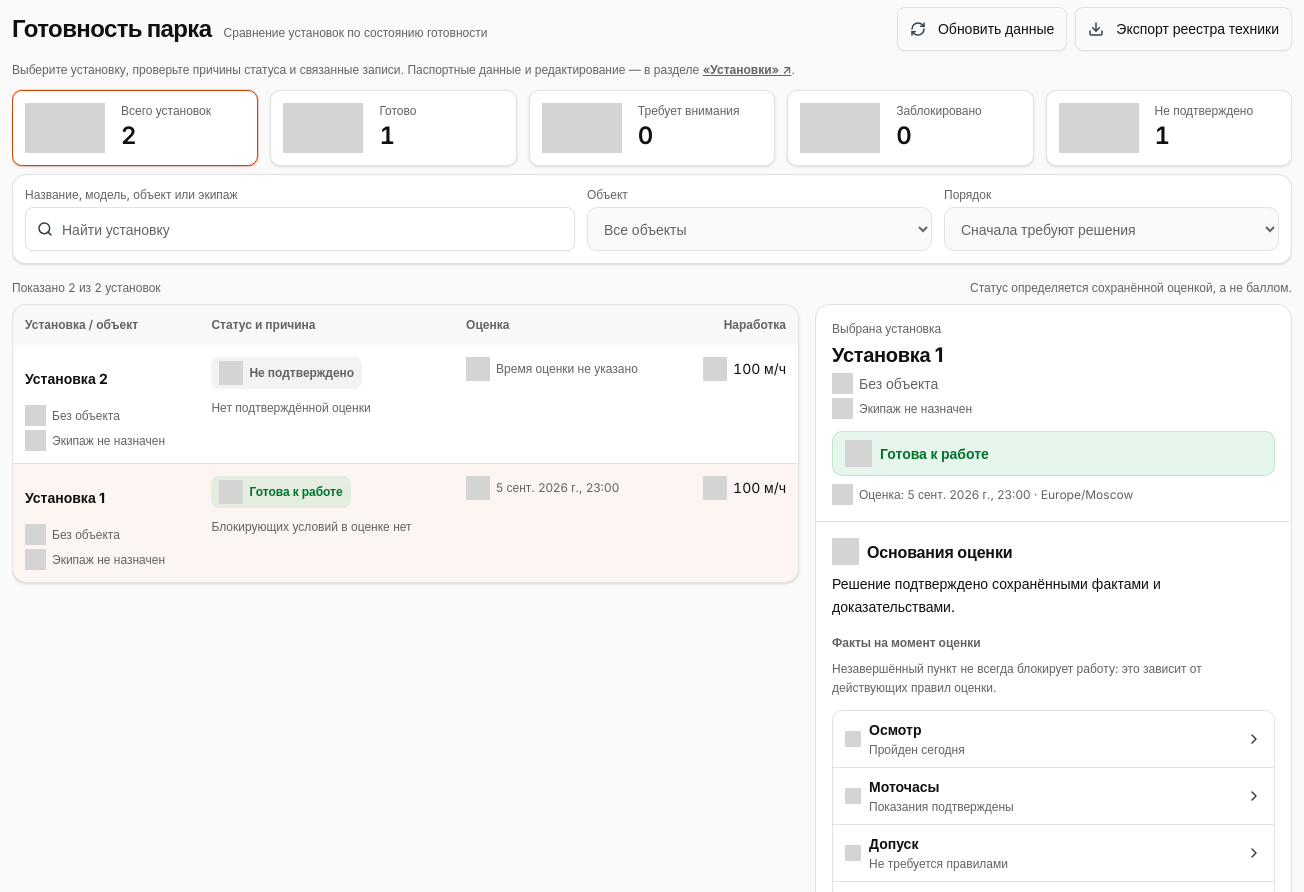
Test: Fleet evidence interactions › hides a selected machine excluded by a filter instead of leaving an unrelated panel
The width and height of the screenshot is (1304, 892).
Type "Установка 2" into the field named "Поиск установки".
click(300, 229); type("Установка 2")  # box 25,207 -> 575,251
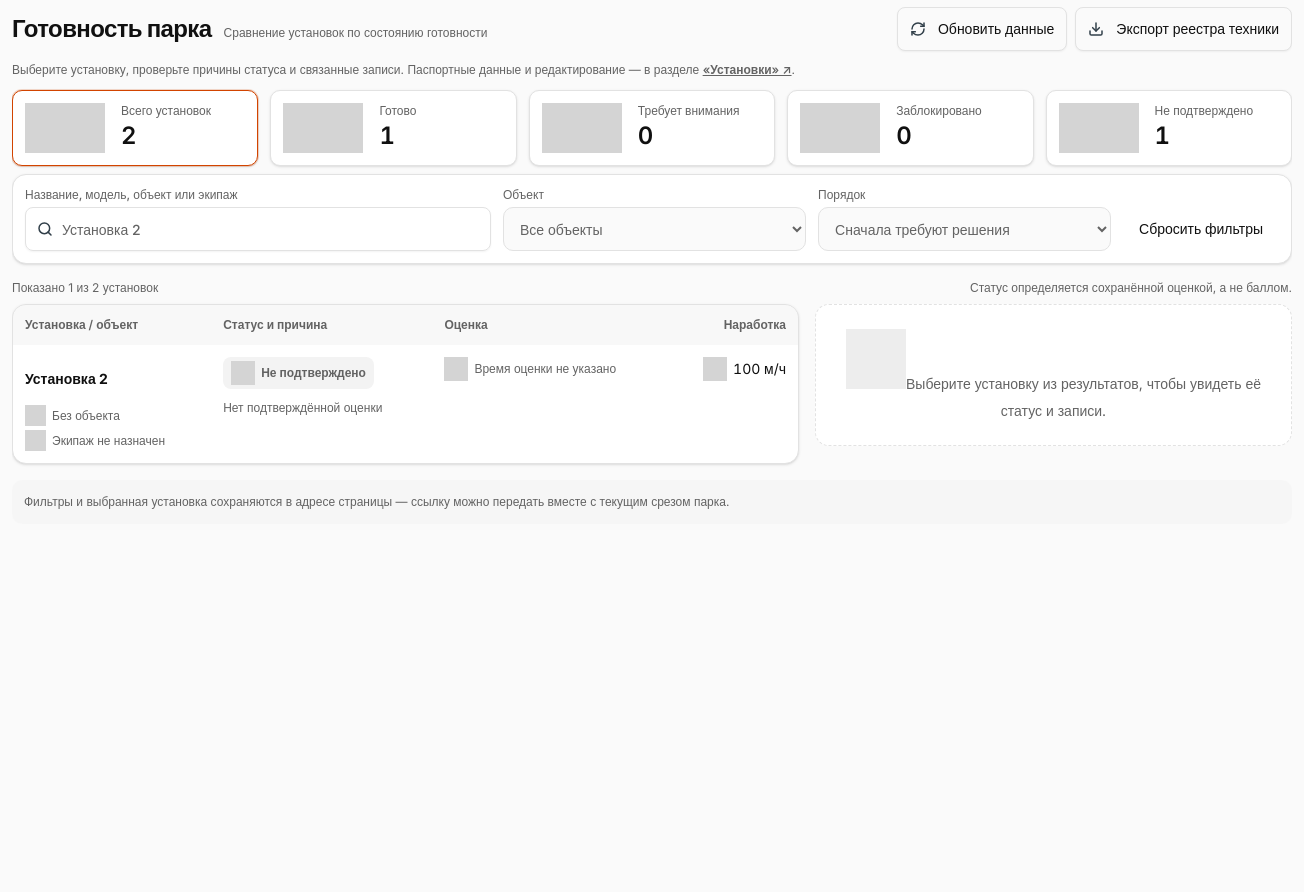
Expected: the button with aria-label "Выбрать Установка 2" is shown, 25,357 -> 108,401
Result: the text "Выберите установку из результатов" is shown at 906,375 -> 1261,419
